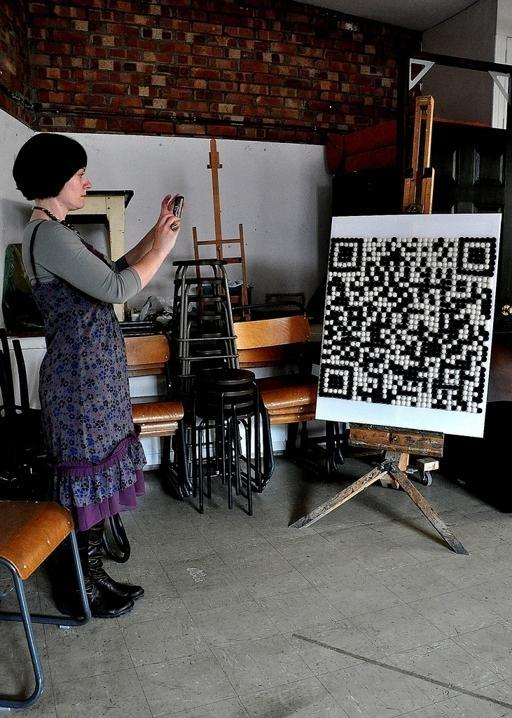QRCode: (314, 229, 502, 418)
